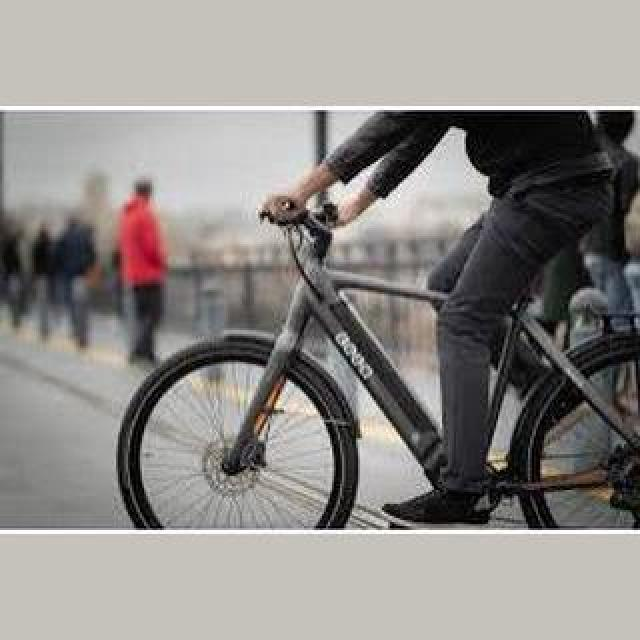MC-Bike: (262, 110, 640, 522), (112, 174, 172, 370), (56, 210, 94, 346), (24, 222, 56, 340)
Person: (116, 196, 640, 534)
